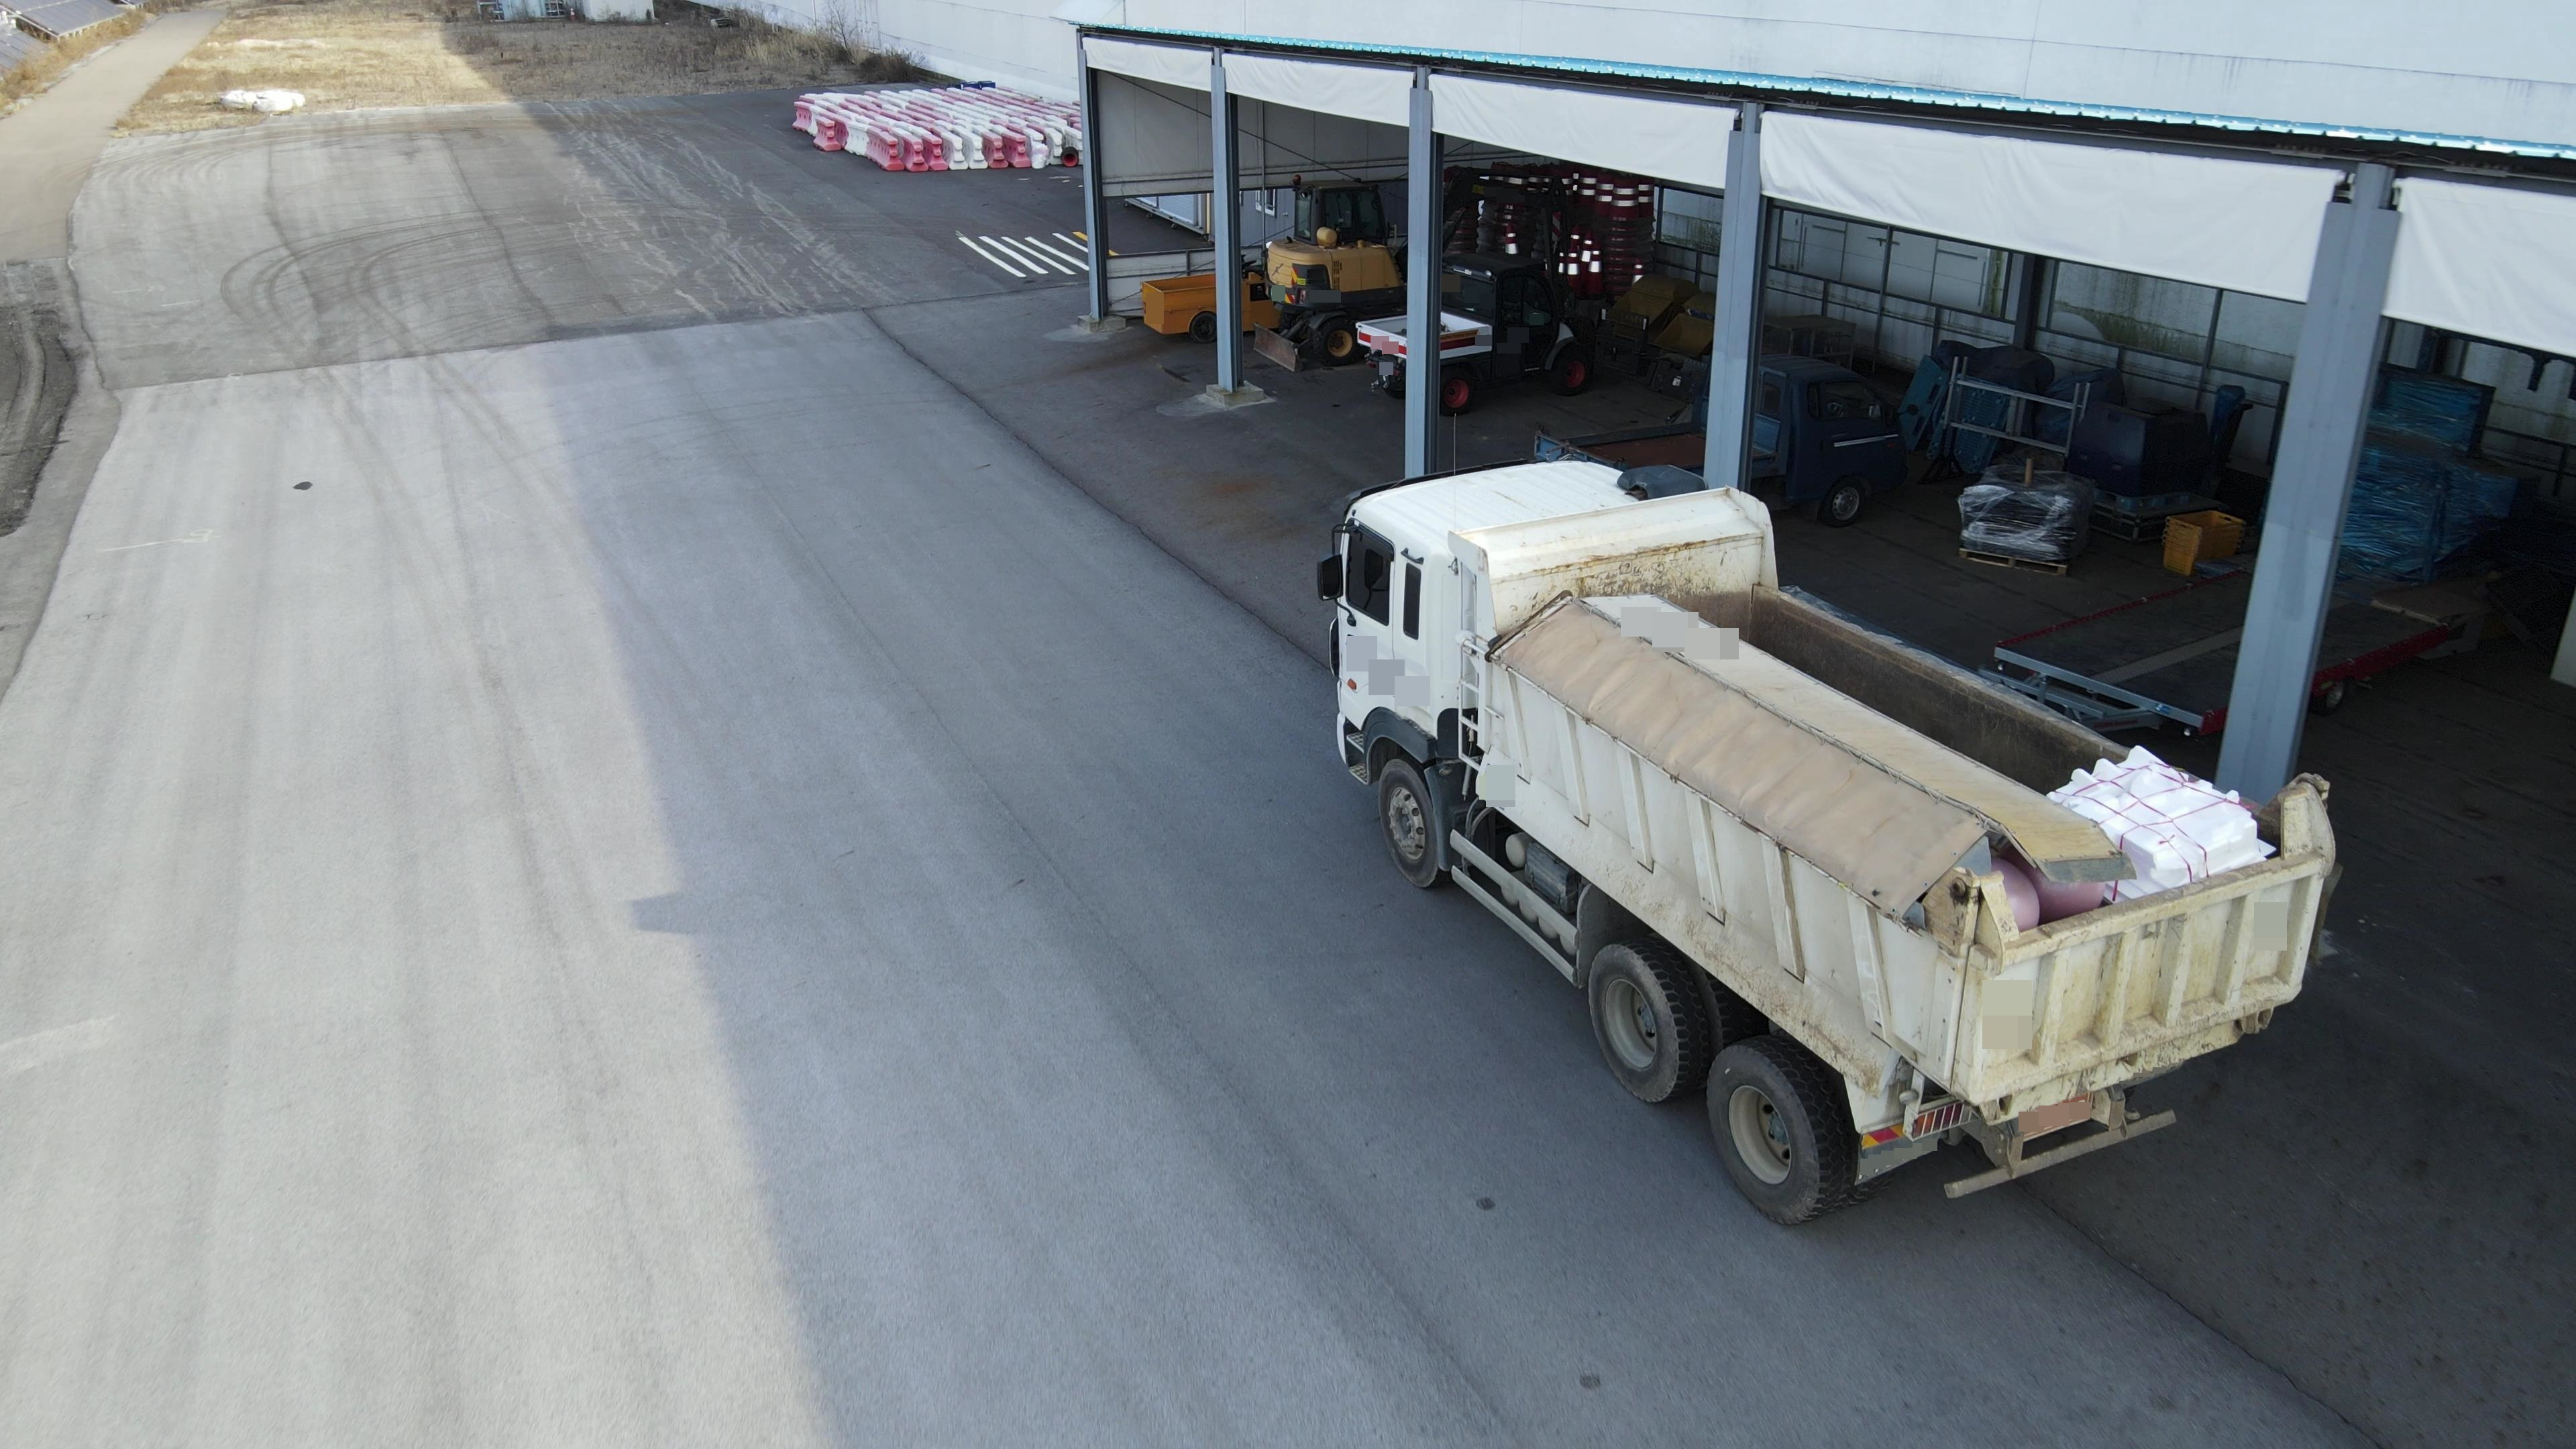불법차량: (1315, 451, 2343, 1228)
